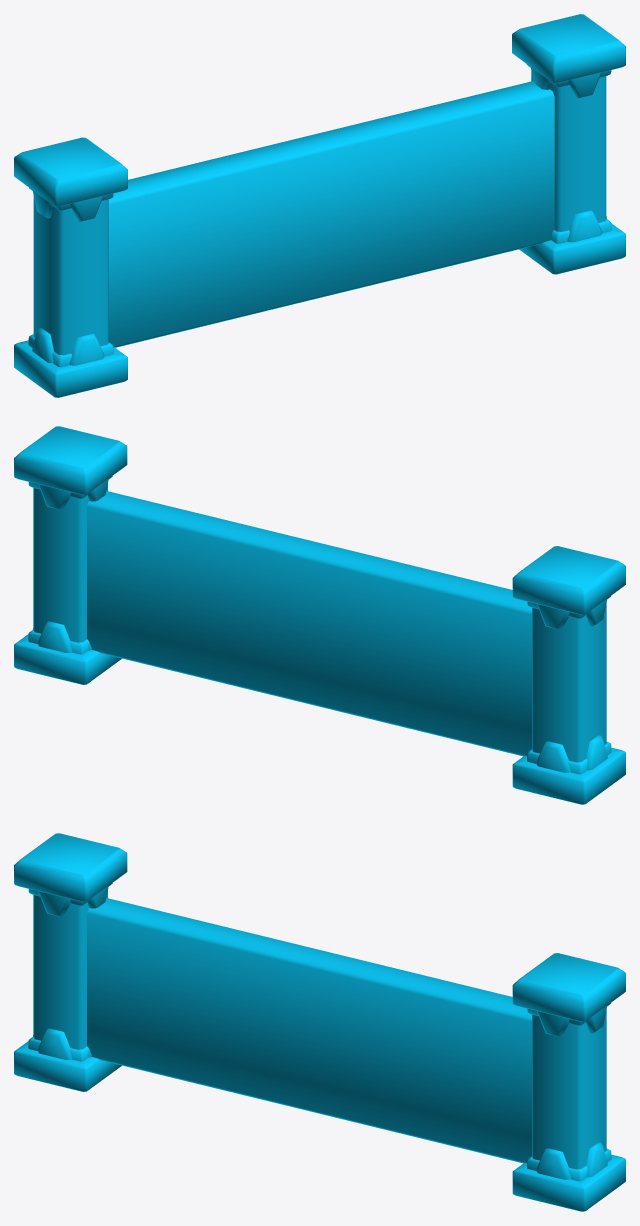
The model's file is FenceWood2.FBX.
The picture shows the model from 3 angles, top to bottom: view 1: azimuth 30°, elevation 25°; view 2: azimuth 150°, elevation 25°; view 3: azimuth 330°, elevation 25°; orthographic projection.
Parts seen in each view (by area): view 1: FenceWood2; view 2: FenceWood2; view 3: FenceWood2.
Part boxes in pixels (x1,y1,x2,y2): FenceWood2: (14,14,625,397); FenceWood2: (14,426,625,804); FenceWood2: (14,833,625,1211).
Bounding box in the file's own units: 3.44 × 1.24 × 0.4614.
